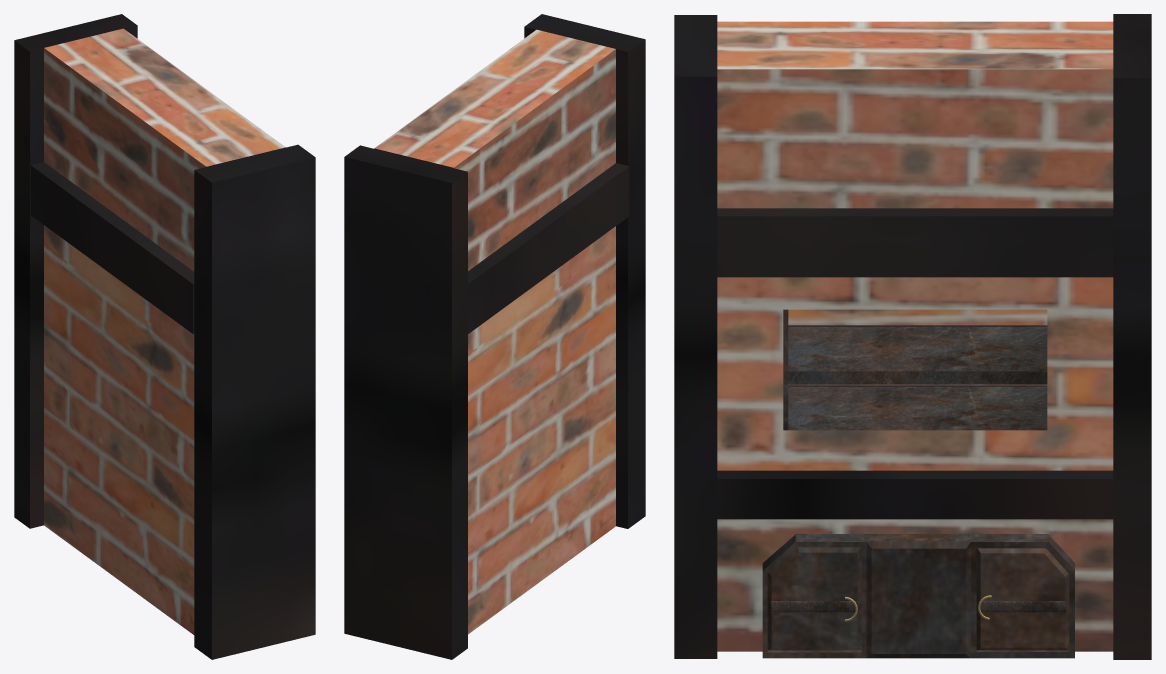
Rendered from Horno.obj.
3 renders of one model, left to right at view 1: azimuth 30°, elevation 25°; view 2: azimuth 150°, elevation 25°; view 3: azimuth 270°, elevation 25°, orthographic. The views are drawn at different scales.
Parts seen in each view (by area): view 1: Horno; view 2: Horno; view 3: Horno.
Boxes of the visible parts, <box> form: Horno: <box>14,14,315,659</box>; Horno: <box>344,14,645,659</box>; Horno: <box>674,14,1151,659</box>.
Size of the model in its own units: 5.08 by 20.94 by 15.55.
Materials: 1 (1 with a texture image).
